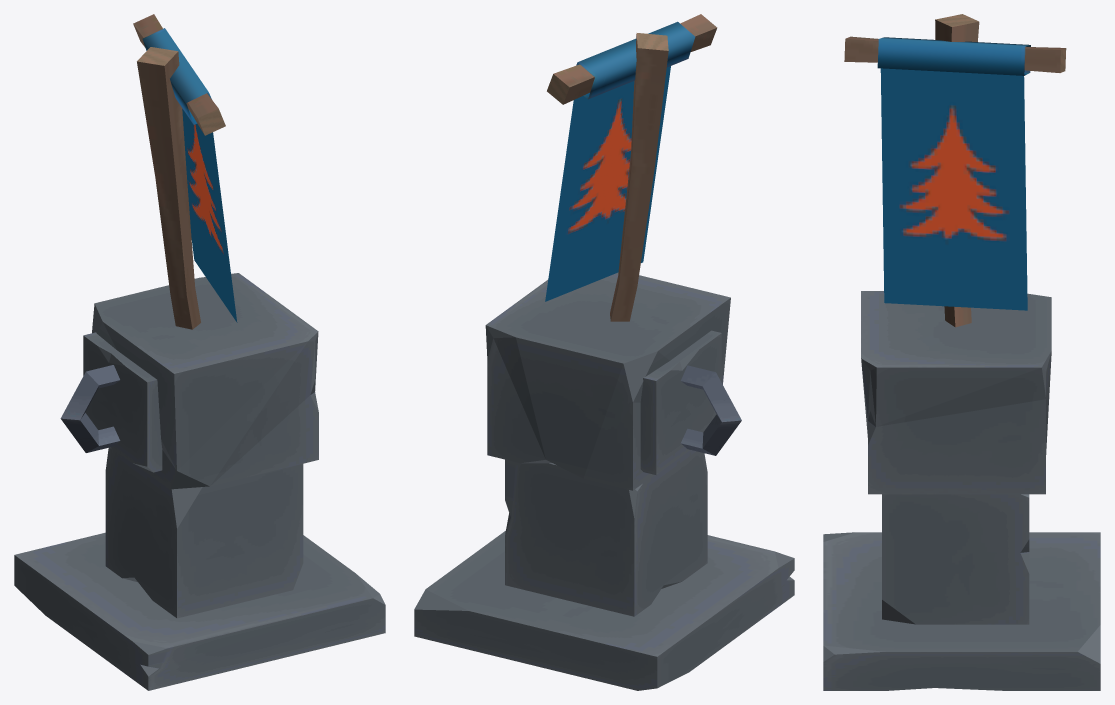
Rendered from Pillar1B-006_02_09_7058.fbx.
3 views of the same model, side by side, from view 1: azimuth 30°, elevation 25°; view 2: azimuth 150°, elevation 25°; view 3: azimuth 270°, elevation 25° (orthographic). The views are drawn at different scales.
Visible parts, largest first — view 1: 1B_Pillar, Wood1.002 (1), Flag2 (1), ChainLink, ClothTop3 (1), WoodTop (1); view 2: 1B_Pillar, Flag2 (1), Wood1.002 (1), ClothTop3 (1), ChainLink, WoodTop (1); view 3: 1B_Pillar, Flag2 (1), ClothTop3 (1), WoodTop (1), Wood1.002 (1).
Boxes of the visible parts, x1=… form: 1B_Pillar: x1=14, y1=273, x2=385, y2=690; Wood1.002 (1): x1=137, y1=47, x2=200, y2=329; Flag2 (1): x1=182, y1=109, x2=237, y2=322; ChainLink: x1=60, y1=365, x2=120, y2=452; ClothTop3 (1): x1=142, y1=28, x2=211, y2=124; WoodTop (1): x1=133, y1=14, x2=225, y2=135; 1B_Pillar: x1=414, y1=272, x2=794, y2=690; Flag2 (1): x1=545, y1=66, x2=670, y2=301; Wood1.002 (1): x1=610, y1=33, x2=668, y2=321; ClothTop3 (1): x1=576, y1=21, x2=695, y2=99; ChainLink: x1=681, y1=365, x2=741, y2=455; WoodTop (1): x1=547, y1=14, x2=717, y2=104; 1B_Pillar: x1=823, y1=291, x2=1100, y2=690; Flag2 (1): x1=880, y1=68, x2=1027, y2=310; ClothTop3 (1): x1=877, y1=37, x2=1030, y2=75; WoodTop (1): x1=844, y1=36, x2=1066, y2=72; Wood1.002 (1): x1=935, y1=14, x2=979, y2=327.
Bounding box in the file's own units: 2.03 × 4.34 × 1.84.
